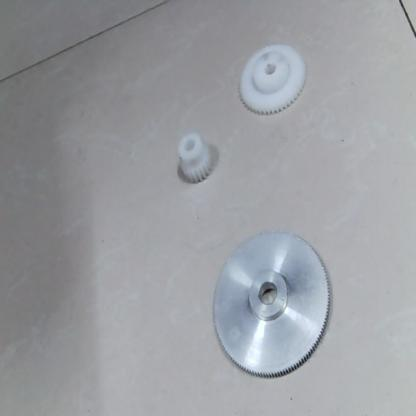FOD: (205, 223, 333, 384), (232, 42, 306, 119), (173, 130, 219, 187)
